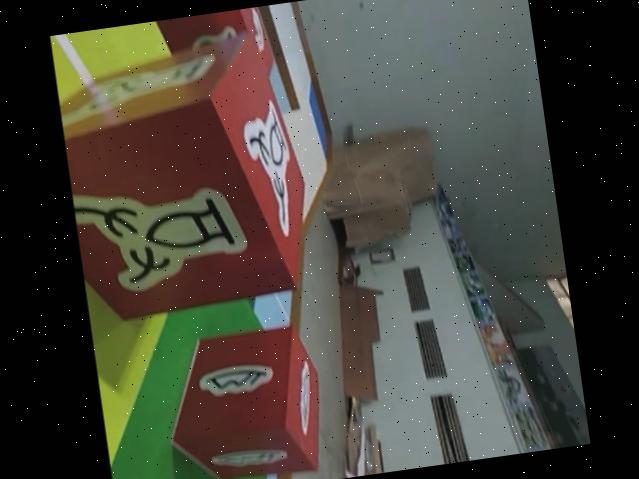R2 Real: (53, 29, 326, 335), (160, 318, 330, 479)
